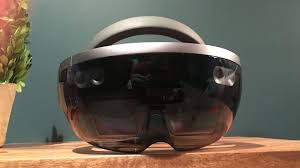hololens: (57, 16, 243, 158)
